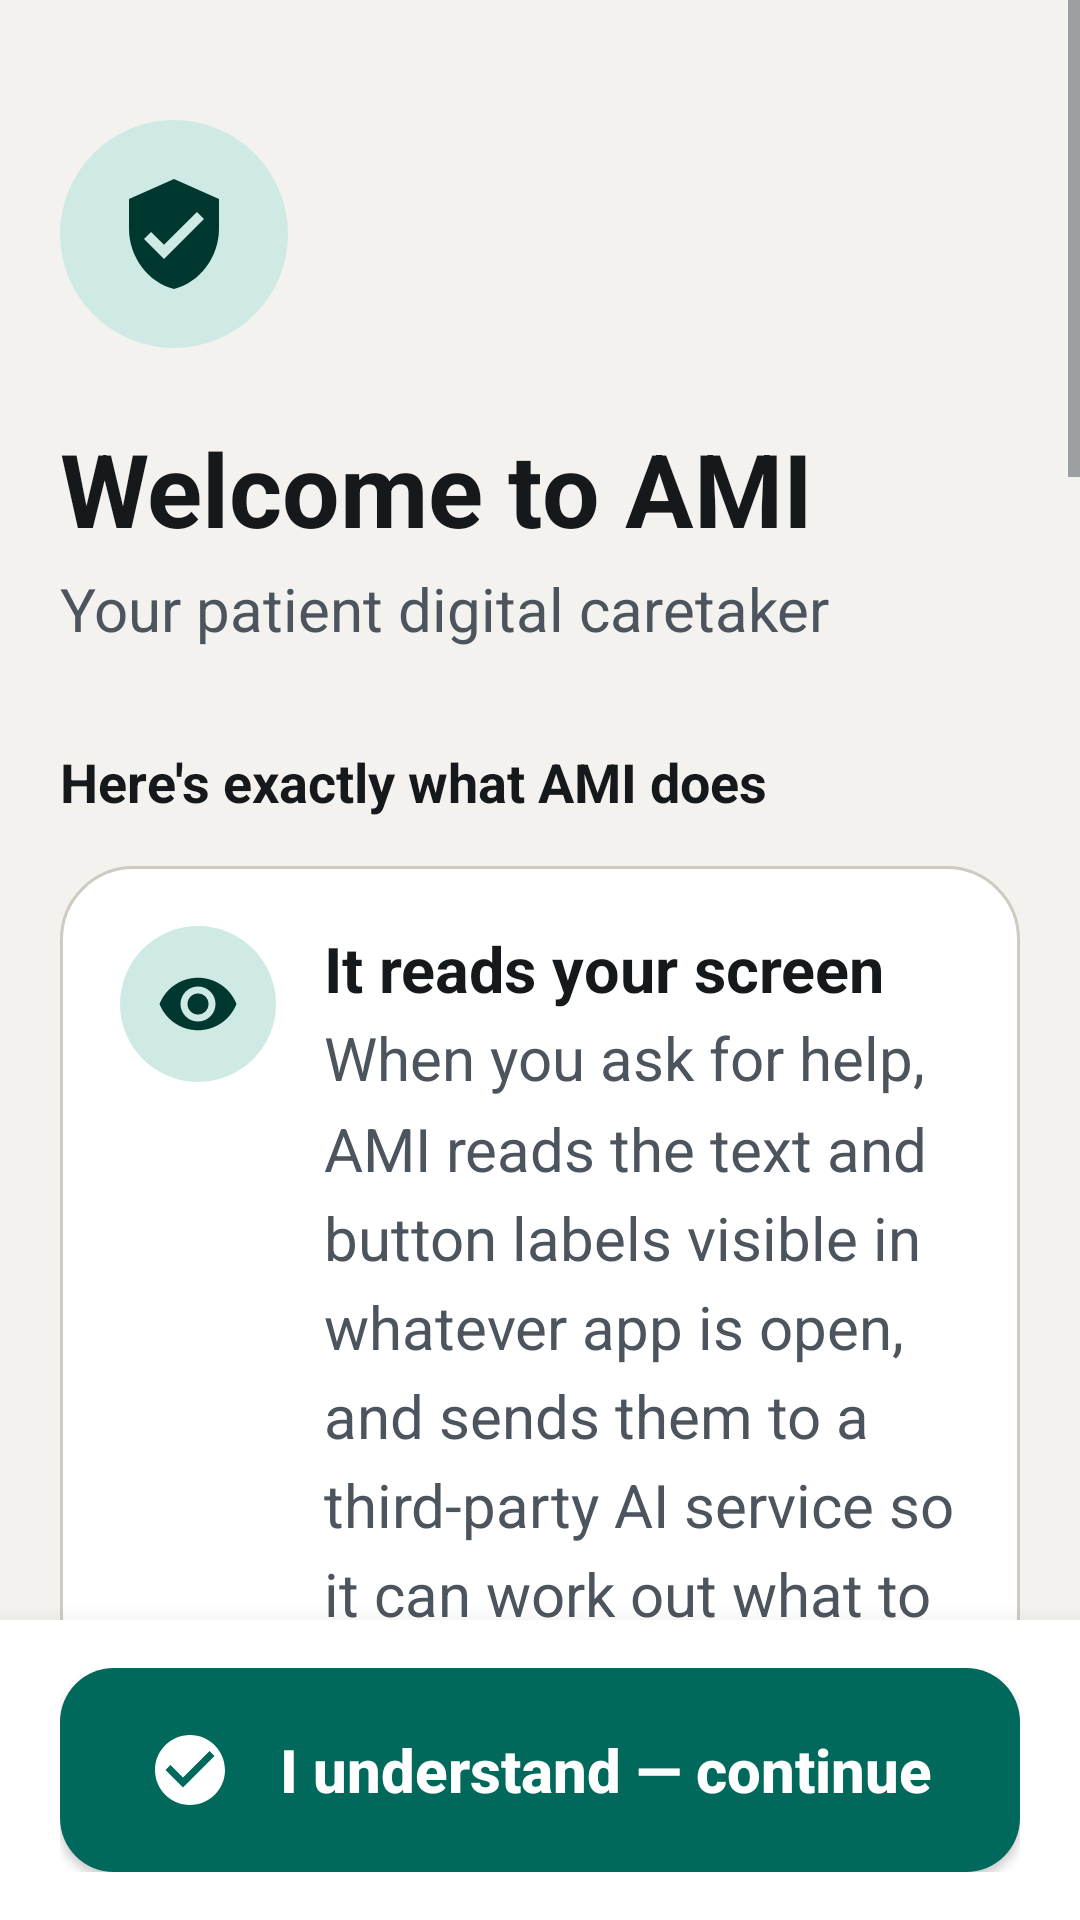

Point at icon controls on the screen. Image size 1080×1920, points as (x=x, y=y).
eye: (x=198, y=1004)
shield: (x=174, y=234)
